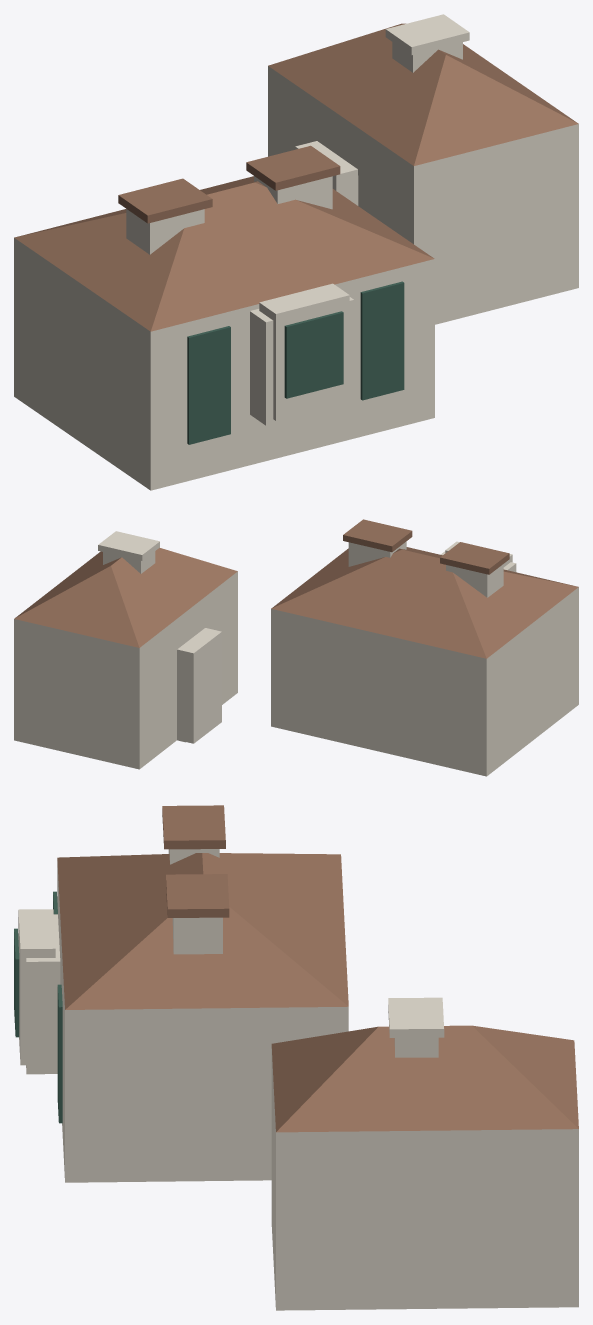
File: villa-le-bec-identity.glb
The picture shows the model from 3 angles, top to bottom: view 1: azimuth 30°, elevation 25°; view 2: azimuth 150°, elevation 25°; view 3: azimuth 270°, elevation 25°; orthographic projection. The views are drawn at different scales.
Parts seen in each view (by area): view 1: villa-le-bec-identity; view 2: villa-le-bec-identity; view 3: villa-le-bec-identity.
Boxes of the visible parts, bbox=[...] form: villa-le-bec-identity: bbox=[14, 14, 578, 490]; villa-le-bec-identity: bbox=[14, 519, 578, 776]; villa-le-bec-identity: bbox=[14, 805, 578, 1310].
Size of the model in its own units: 11.09 by 4.58 by 9.34.
